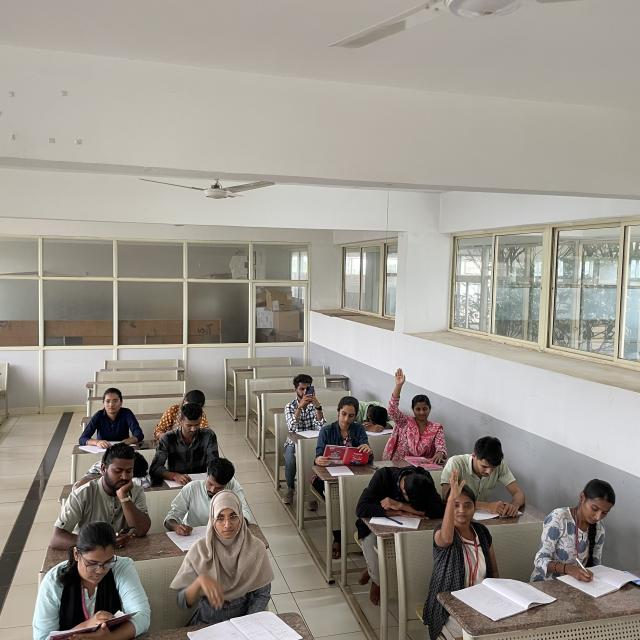Hand Rising: (436, 468, 504, 610), (387, 364, 445, 459)
Reading: (36, 519, 146, 635), (454, 428, 527, 522), (316, 396, 373, 466)
Sleeping: (351, 465, 449, 516), (354, 393, 392, 435)
Using Phone: (86, 448, 152, 550), (283, 371, 329, 429)
Writing: (534, 479, 640, 591), (164, 458, 249, 544)
